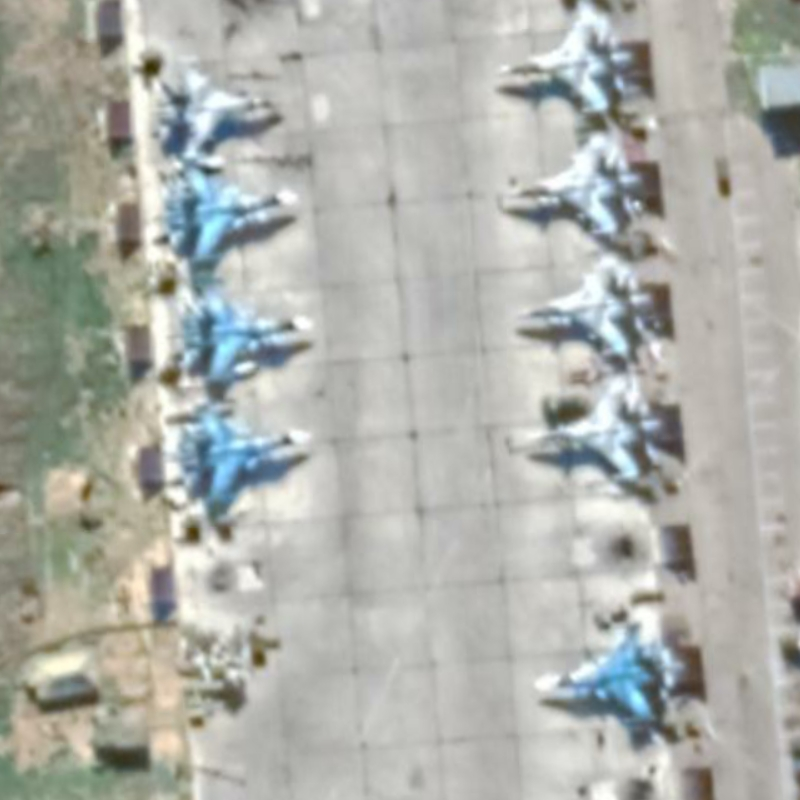A1: (499, 128, 650, 243), (520, 372, 668, 489), (488, 5, 635, 121), (510, 253, 657, 366), (149, 59, 281, 166)
A19: (171, 394, 313, 516), (154, 166, 304, 276), (528, 620, 681, 727), (170, 288, 317, 393)
